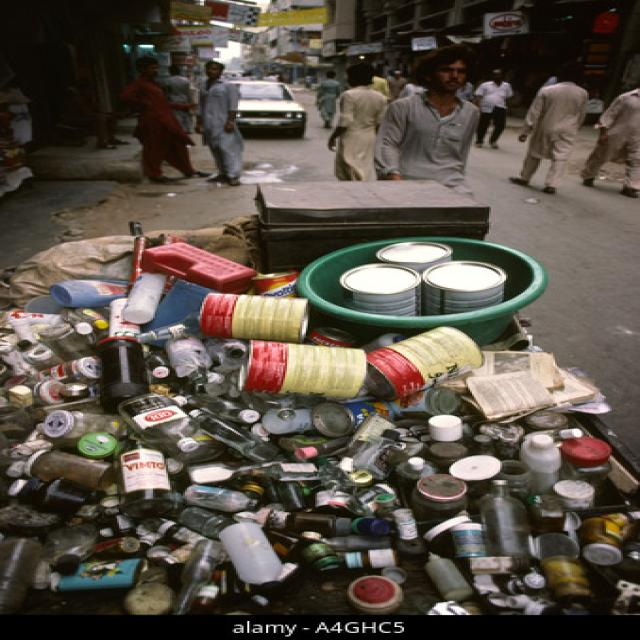glass: (113, 398, 219, 455), (115, 451, 176, 514), (487, 485, 527, 563)
metal: (196, 293, 449, 386), (351, 248, 500, 302)
paper: (483, 351, 578, 416)
plastic: (32, 416, 111, 507), (10, 322, 98, 371), (45, 282, 128, 309)
